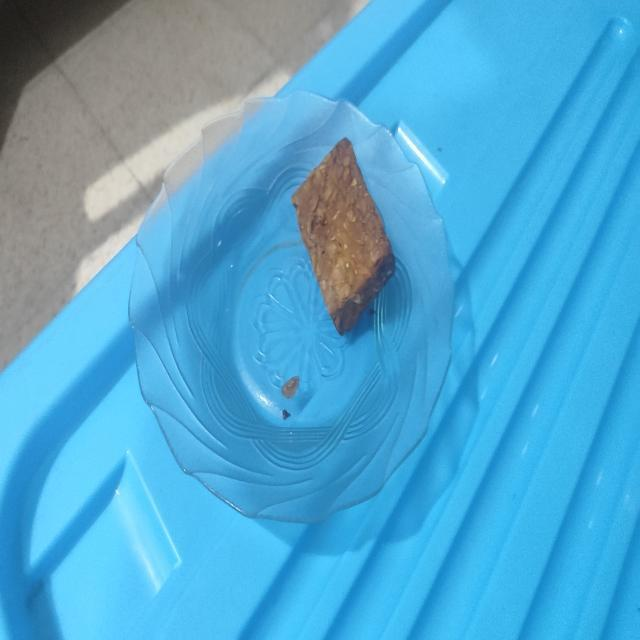tempe_goreng: (291, 138, 394, 334)
